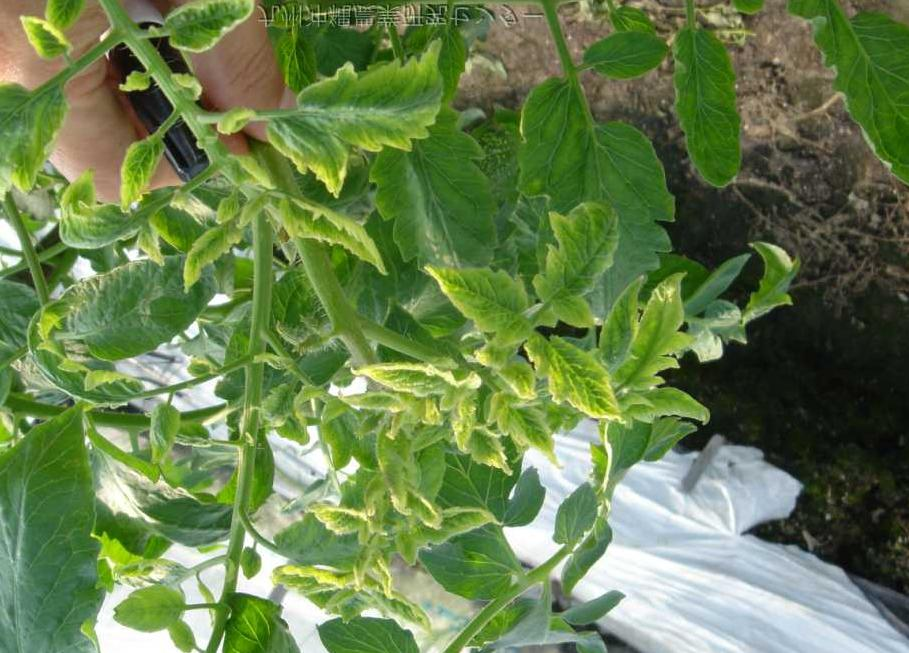Tomato leaf yellow virus: (261, 34, 471, 190), (239, 169, 396, 284), (0, 60, 92, 199), (418, 260, 544, 347), (535, 195, 620, 317), (58, 190, 190, 261), (531, 334, 625, 421), (346, 350, 467, 402), (161, 0, 257, 58), (303, 492, 375, 545)
